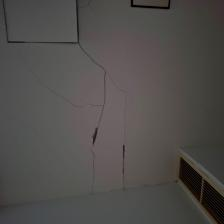Medium: (73, 47, 142, 184)
